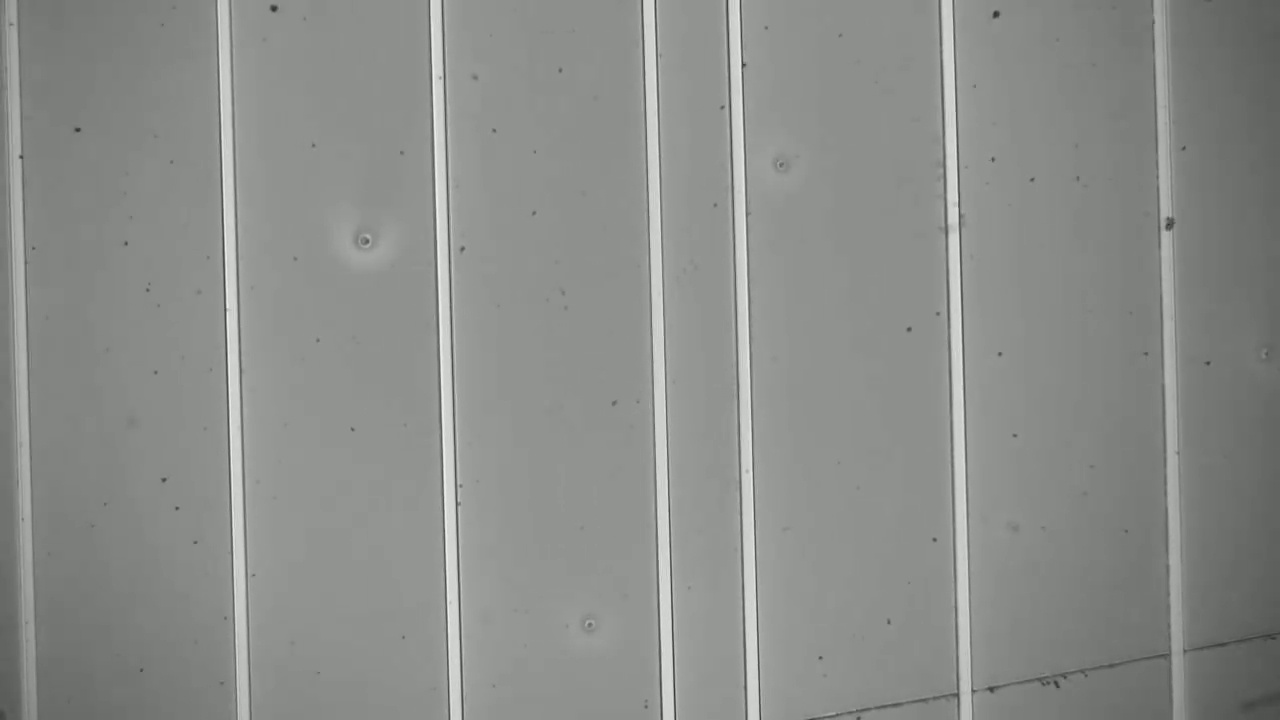scratch: (811, 636, 1270, 719)
stains_enbedded: (1146, 211, 1184, 238)
